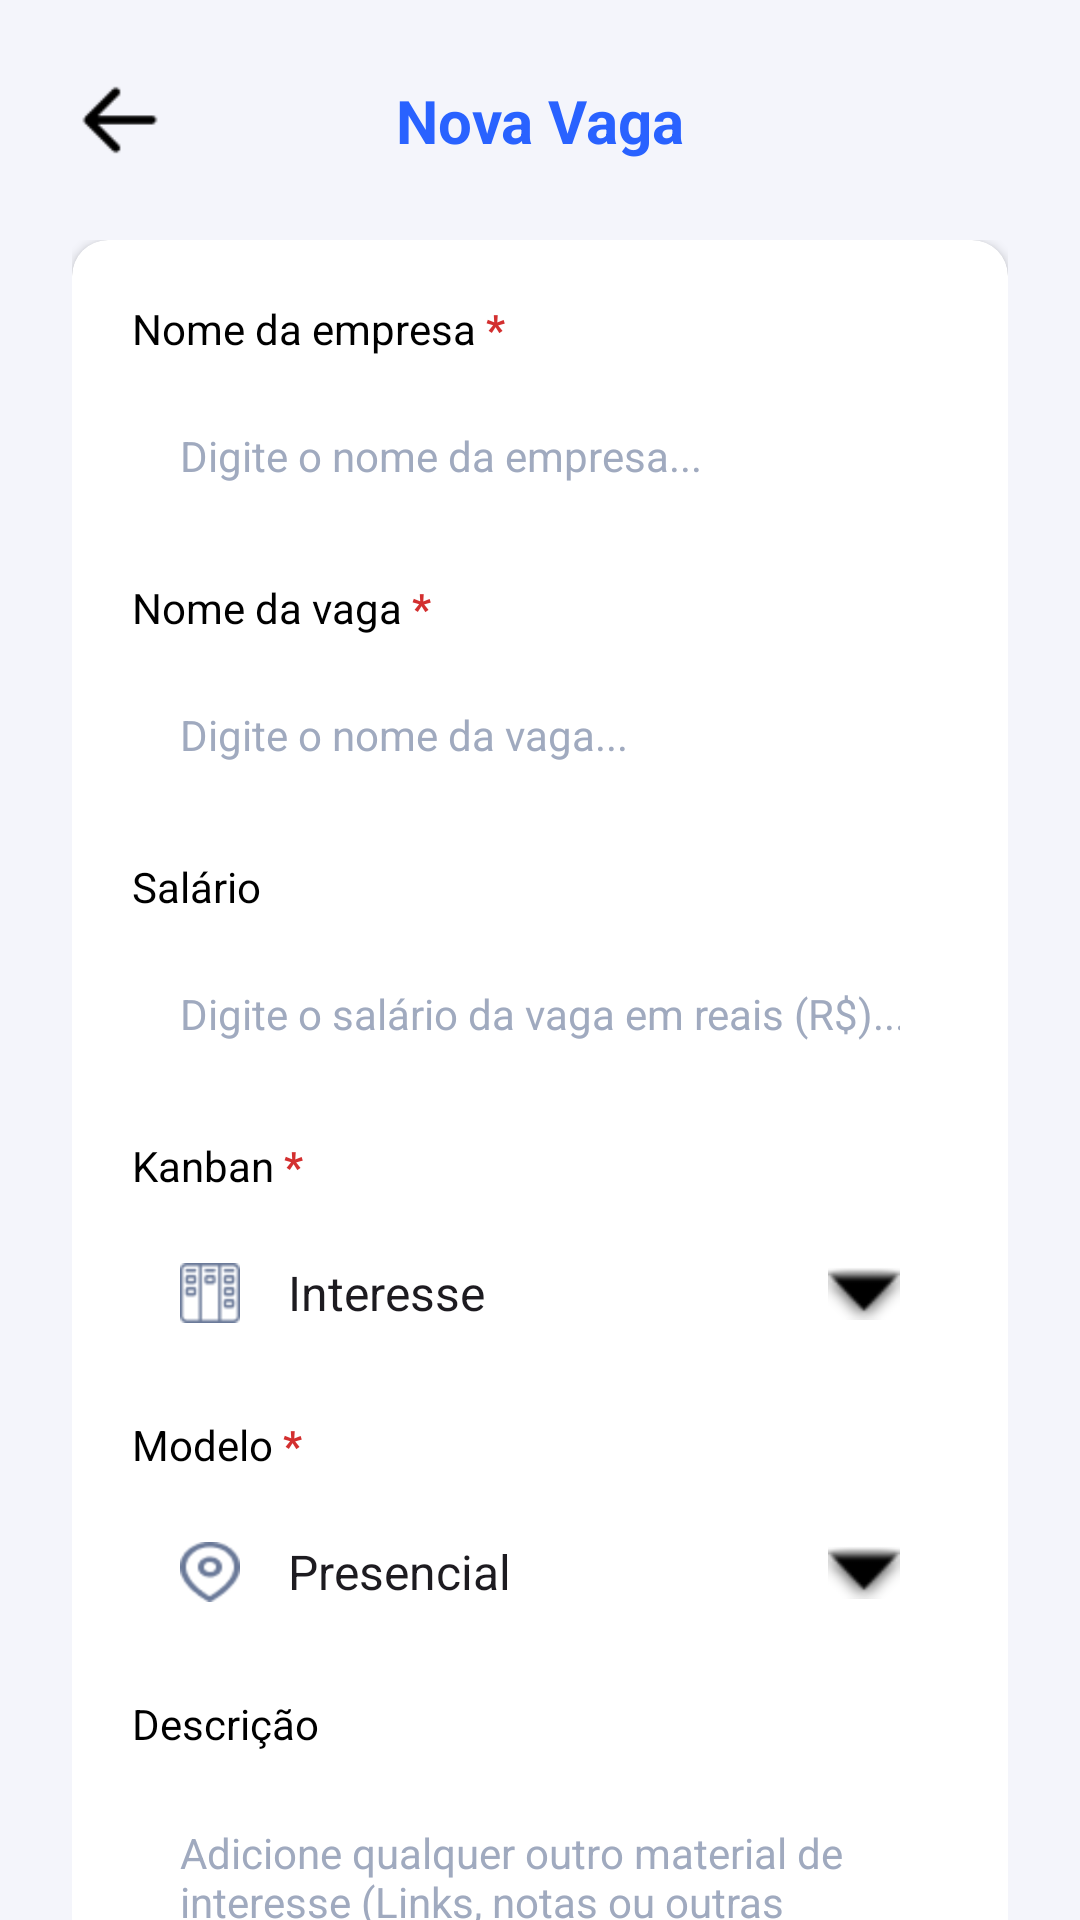

Icon click points for this 1080x1920 phone screenshot, format (x,y):
arrow down float: (864,1293), (864,1572)
voltar: (120,120)
